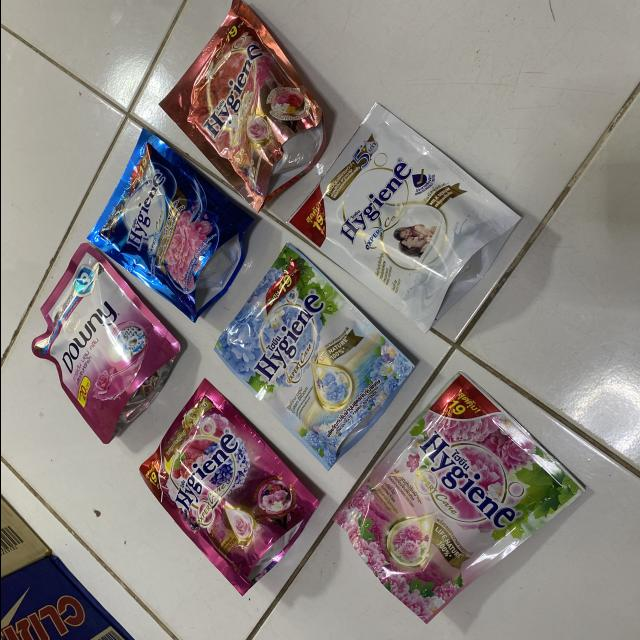plastik: (334, 373, 584, 623), (288, 104, 519, 332), (214, 244, 413, 470), (138, 379, 318, 595), (159, 0, 325, 211), (87, 129, 252, 321), (31, 243, 179, 443)
